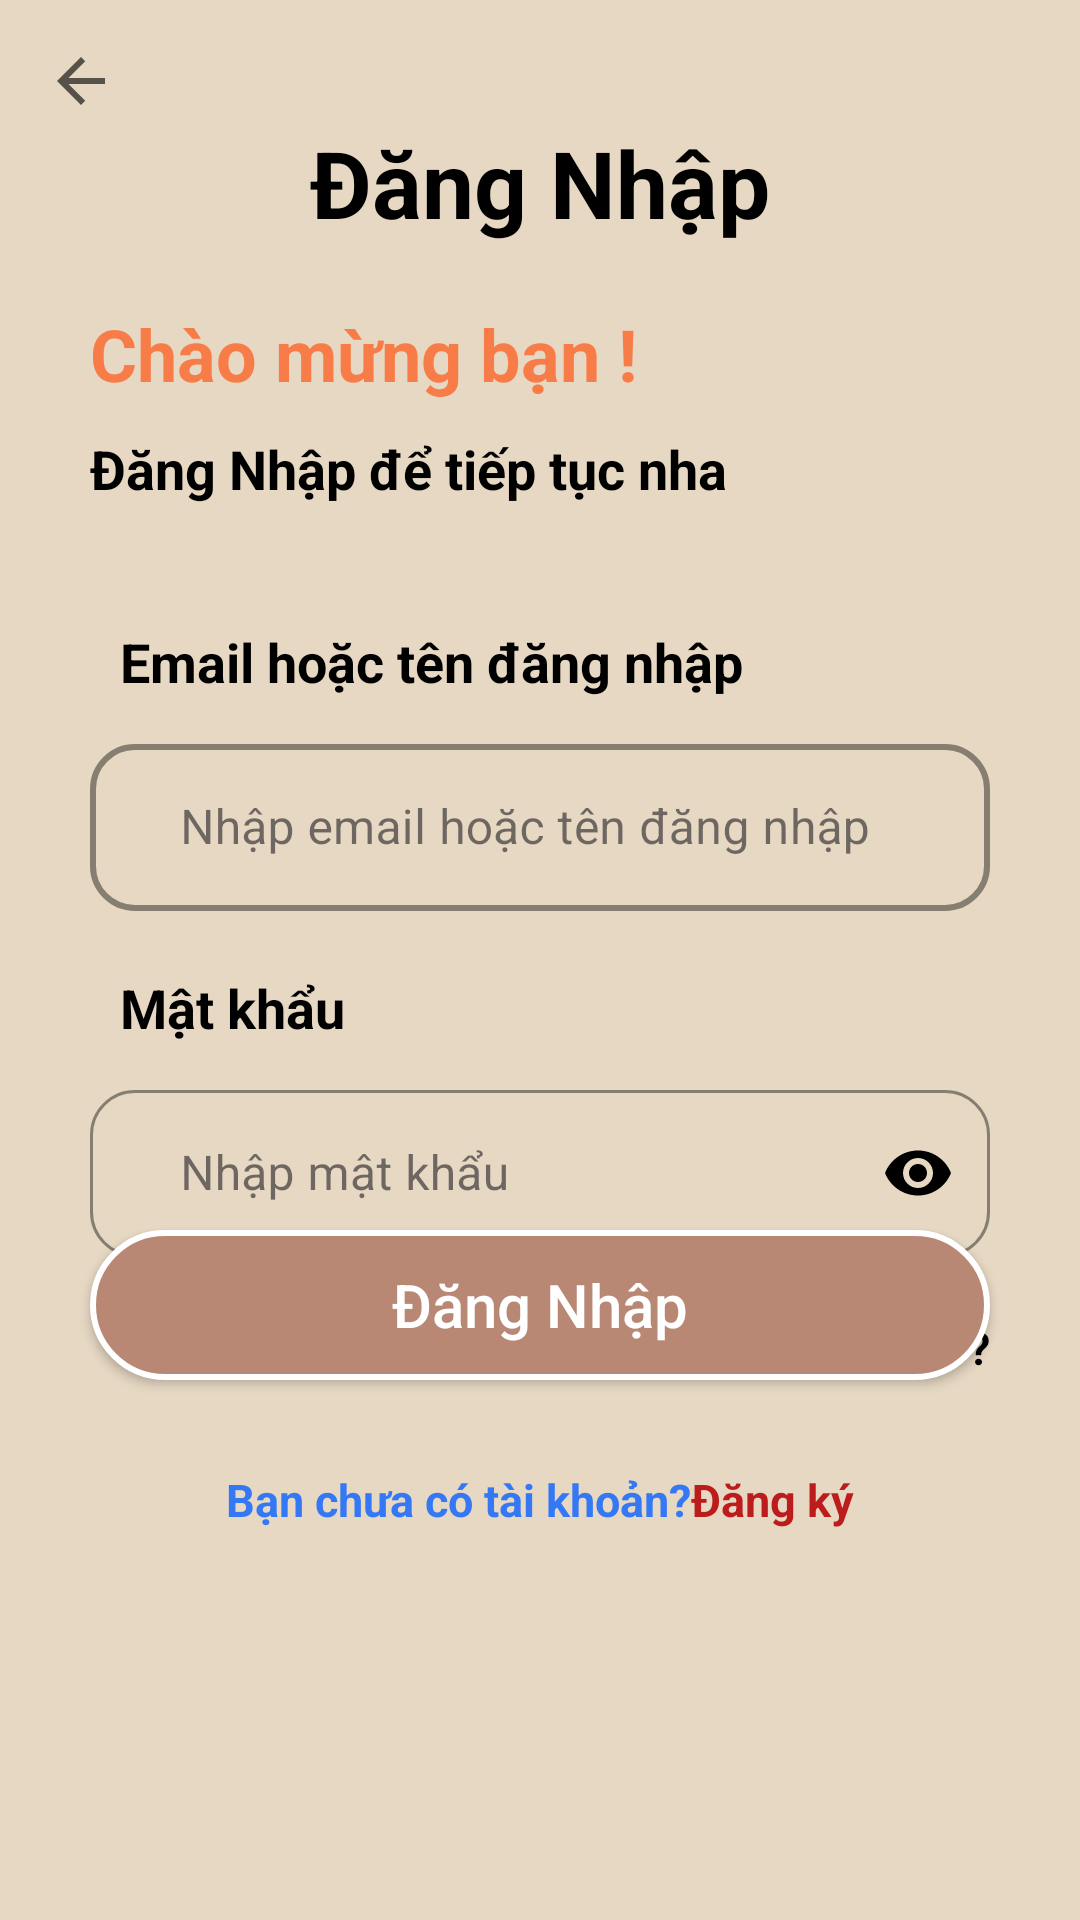

Named icons in this screenshot (1080 x 1920) and their bounding boxes, (x1, y1, x2, y2):
arrow back: (57, 57, 105, 105)
